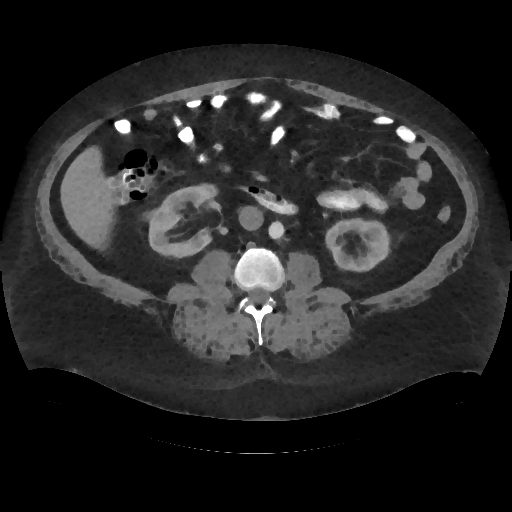Lesion: (141, 204, 160, 223)
